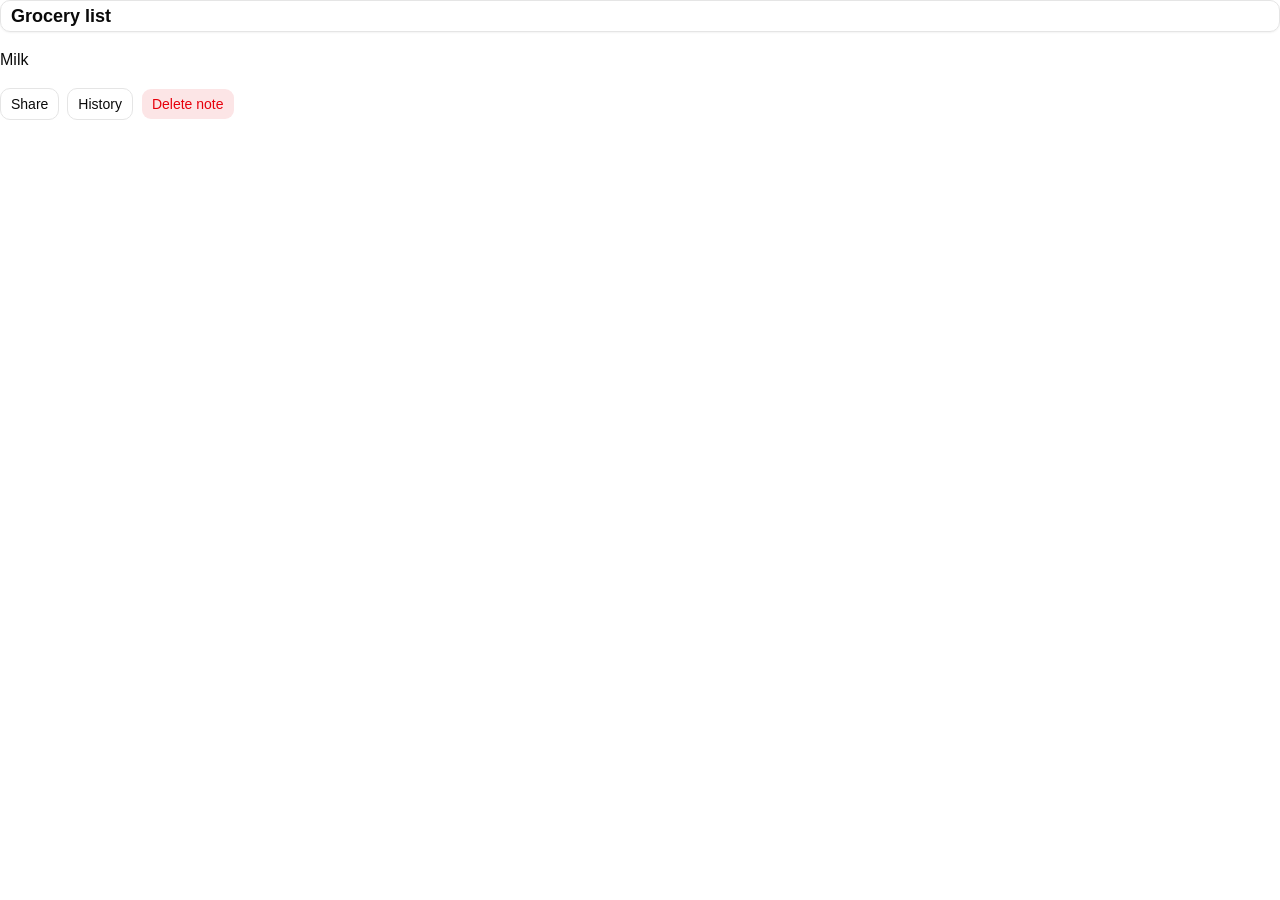
Scenario: NoteEditorPage delete › requires confirmation before sending a delete request
Expected: the field named "title" holds "Grocery list", [0,0,1279,32]
Step 1. Click the button "Delete note" → x=188, y=104, box [141,88,234,120]
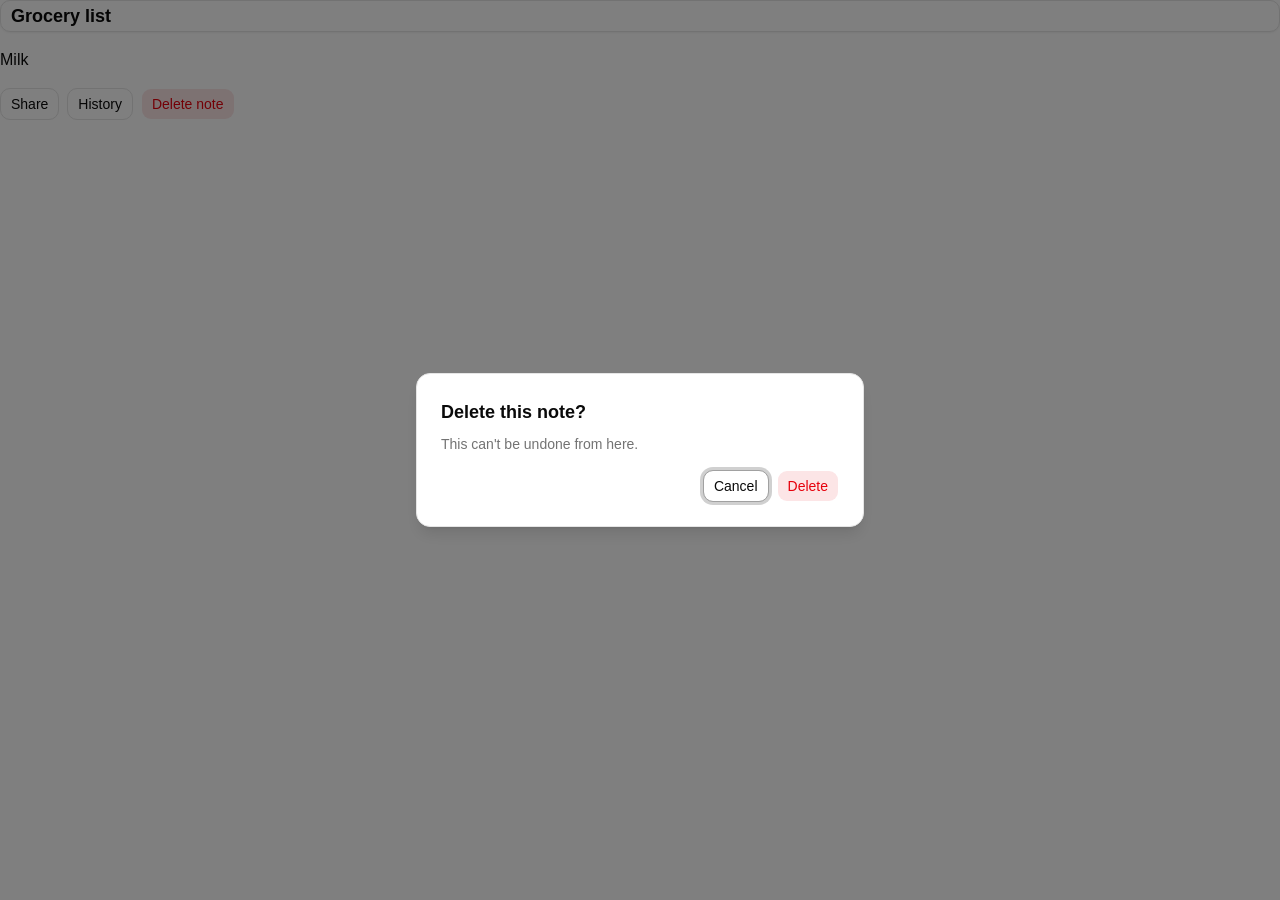
Expected: the heading "Delete this note?" is shown, [441,402,586,422]
